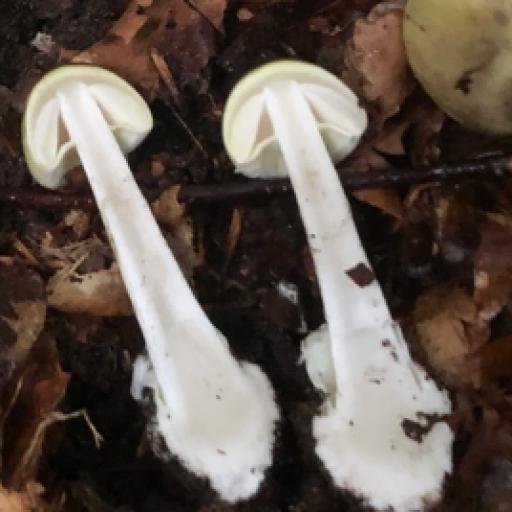mushroom: (0, 41, 310, 512), (0, 0, 1, 1)
